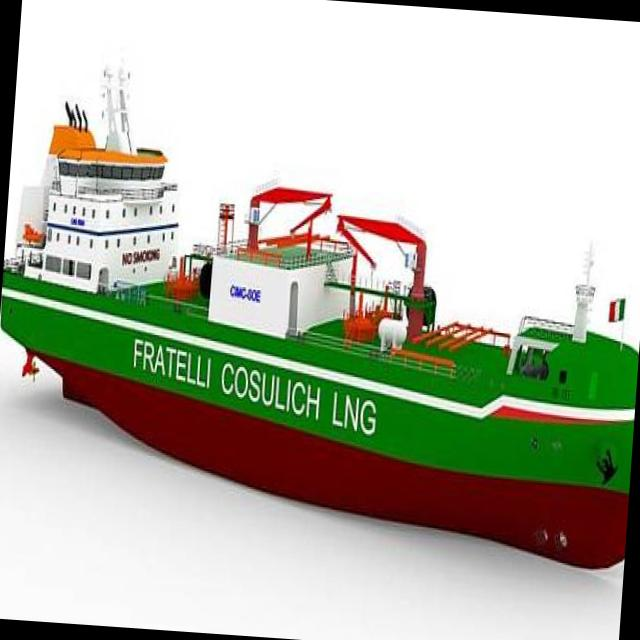boat: (0, 58, 640, 594)
